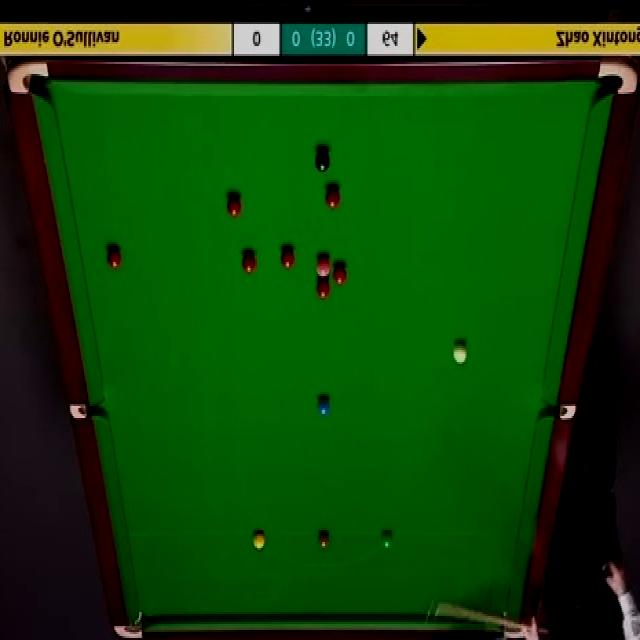black-ball: (313, 146, 331, 173)
blue-ball: (316, 395, 330, 416)
brown-ball: (317, 530, 330, 550)
green-ball: (382, 531, 394, 548)
pink-ball: (315, 250, 330, 276)
red-ball: (332, 262, 348, 289), (106, 248, 122, 274), (241, 252, 258, 276), (326, 186, 342, 210), (226, 195, 242, 218), (316, 278, 331, 301), (281, 246, 294, 268)
white-ball: (452, 338, 468, 363)
yellow-ball: (253, 531, 266, 551)
